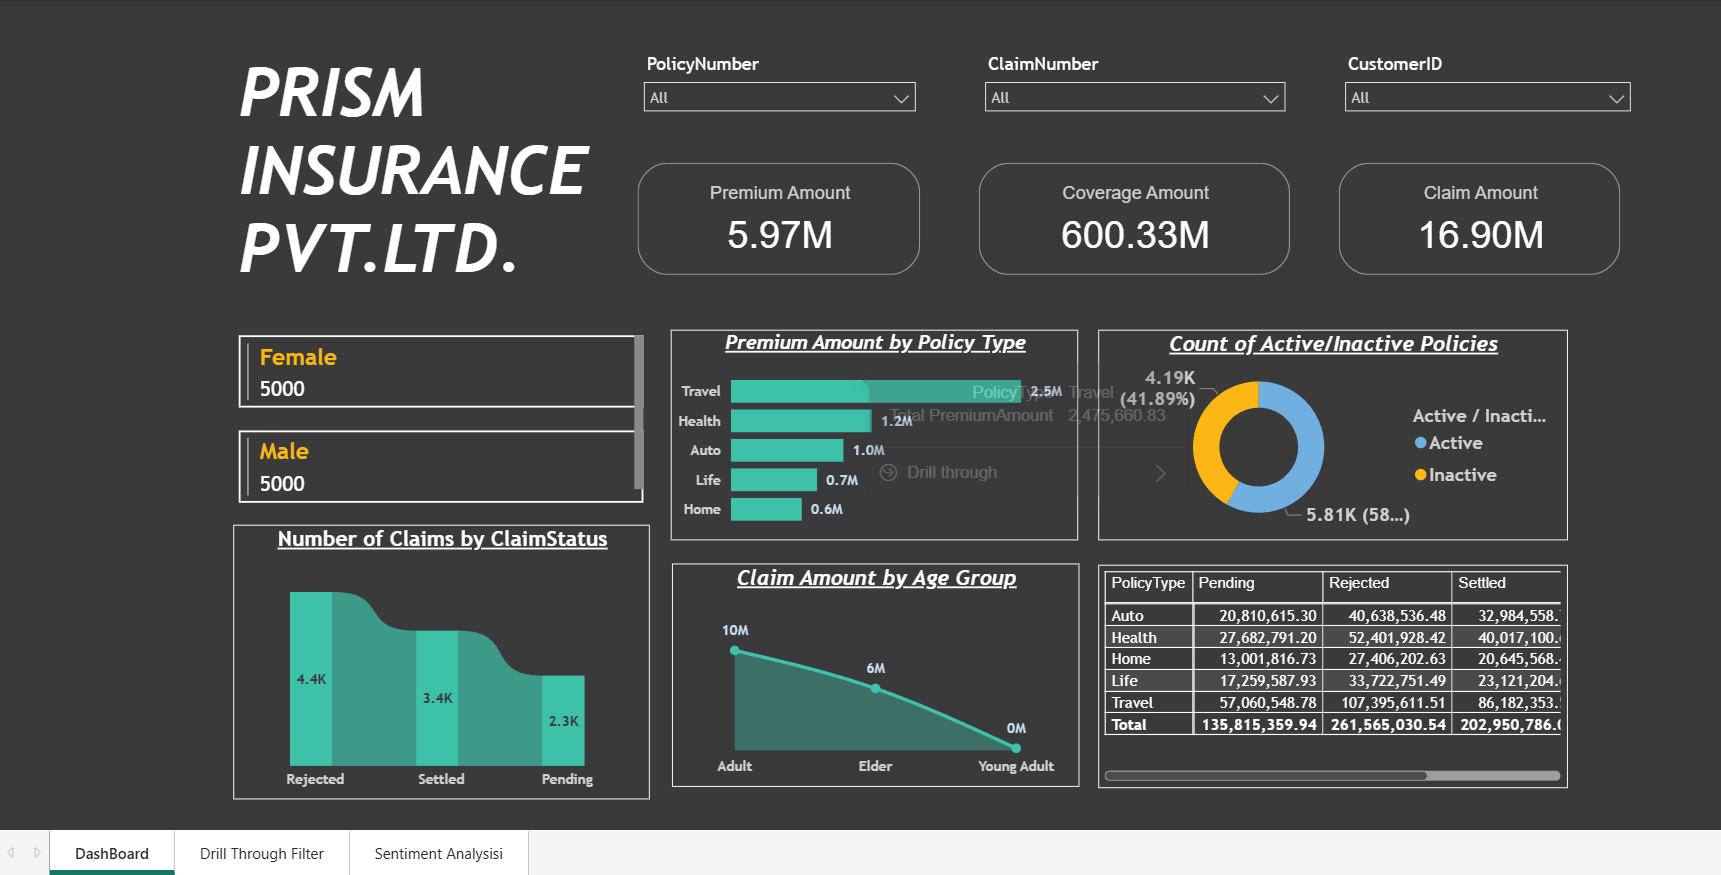

This screenshot's page, from the dashboard's own definition file:
{"tool":"powerbi","page":{"name":"Page 1","canvas":[1280,720],"ordinal":0},"visuals":[{"type":"slicer","fields":{"Values":["InsuranceData.PolicyNumber"]},"box":[371.9,35.7,258,75.5],"z":0},{"type":"slicer","fields":{"Values":["InsuranceData.CustomerID"]},"box":[983.9,35.7,270.3,75.5],"z":1000},{"type":"slicer","fields":{"Values":["InsuranceData.ClaimNumber"]},"box":[669.6,35.7,282.7,75.5],"z":2000},{"type":"textbox","box":[22.9,36.3,340.2,230],"z":3000},{"type":"cardVisual","fields":{"Data":["Sum(InsuranceData.PremiumAmount)"]},"box":[371.9,131.7,258,108.4],"z":4000},{"type":"cardVisual","fields":{"Data":["Sum(InsuranceData.CoverageAmount)"]},"box":[669.6,131.7,282.7,108.4],"z":5000},{"type":"cardVisual","fields":{"Data":["Sum(InsuranceData.ClaimAmount)"]},"box":[983.9,131.7,256.6,108.4],"z":6000},{"type":"multiRowCard","fields":{"Values":["InsuranceData.Gender","CountNonNull(InsuranceData.Gender)"]},"box":[23.3,282.7,363.6,159.2],"z":7000},{"type":"ribbonChart","title":"Number of Claims by ClaimStatus","fields":{"Category":["InsuranceData.ClaimStatus"],"Y":["CountNonNull(InsuranceData.ClaimStatus)"]},"box":[22.9,453.6,364.3,240.1],"z":8000},{"type":"barChart","title":"Premium Amount by Policy Type","fields":{"Category":["InsuranceData.PolicyType"],"Y":["Sum(InsuranceData.PremiumAmount)"]},"box":[404.8,282.4,356.4,184.2],"z":9000},{"type":"lineChart","title":"Claim Amount by Age Group","fields":{"Category":["InsuranceData.Age Group"],"Y":["Sum(InsuranceData.ClaimAmount)"]},"box":[406.1,486.8,356.4,195],"z":10000},{"type":"donutChart","title":"Count of Active/Inactive Policies","fields":{"Category":["InsuranceData.Active / Inactive "],"Y":["CountNonNull(InsuranceData.Active / Inactive )"]},"box":[778.7,282.4,410.2,184.2],"z":11000},{"type":"pivotTable","fields":{"Values":["Sum(InsuranceData.CoverageAmount)"],"Rows":["InsuranceData.PolicyType"],"Columns":["InsuranceData.ClaimStatus"]},"box":[778.7,488.2,410.2,195],"z":12000}]}

Visuals, with their boxes on the page's 1280x720 design canvas (x1, y1, x2, y2). These are canvas units, not pixel positions in the 1721x875 screenshot, which may show the page scaled, cropped or inside an application window:
slicer - InsuranceData.PolicyNumber: (372,36,630,111)
slicer - InsuranceData.CustomerID: (984,36,1254,111)
slicer - InsuranceData.ClaimNumber: (670,36,952,111)
textbox: (23,36,363,266)
cardVisual - Sum(InsuranceData.PremiumAmount): (372,132,630,240)
cardVisual - Sum(InsuranceData.CoverageAmount): (670,132,952,240)
cardVisual - Sum(InsuranceData.ClaimAmount): (984,132,1240,240)
multiRowCard - InsuranceData.Gender x CountNonNull(InsuranceData.Gender): (23,283,387,442)
"Number of Claims by ClaimStatus" ribbonChart: (23,454,387,694)
"Premium Amount by Policy Type" barChart: (405,282,761,467)
"Claim Amount by Age Group" lineChart: (406,487,762,682)
"Count of Active/Inactive Policies" donutChart: (779,282,1189,467)
pivotTable - Sum(InsuranceData.CoverageAmount) x InsuranceData.PolicyType: (779,488,1189,683)
